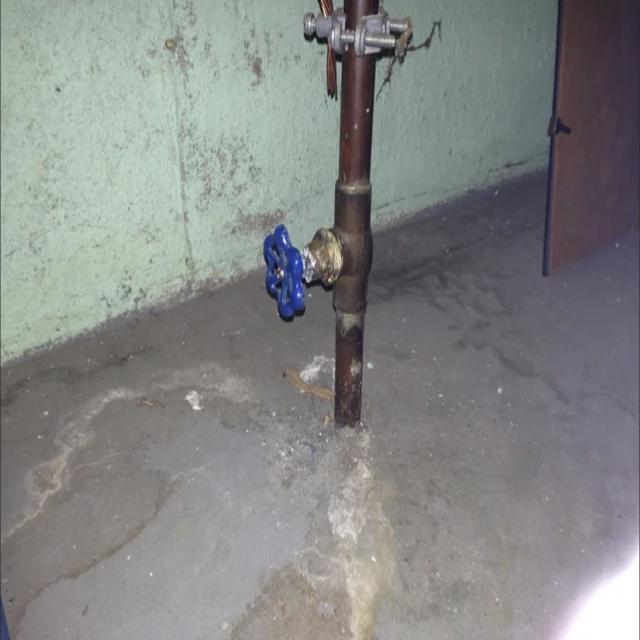Wheel Handle Valve Threaded: (263, 186, 370, 322)
